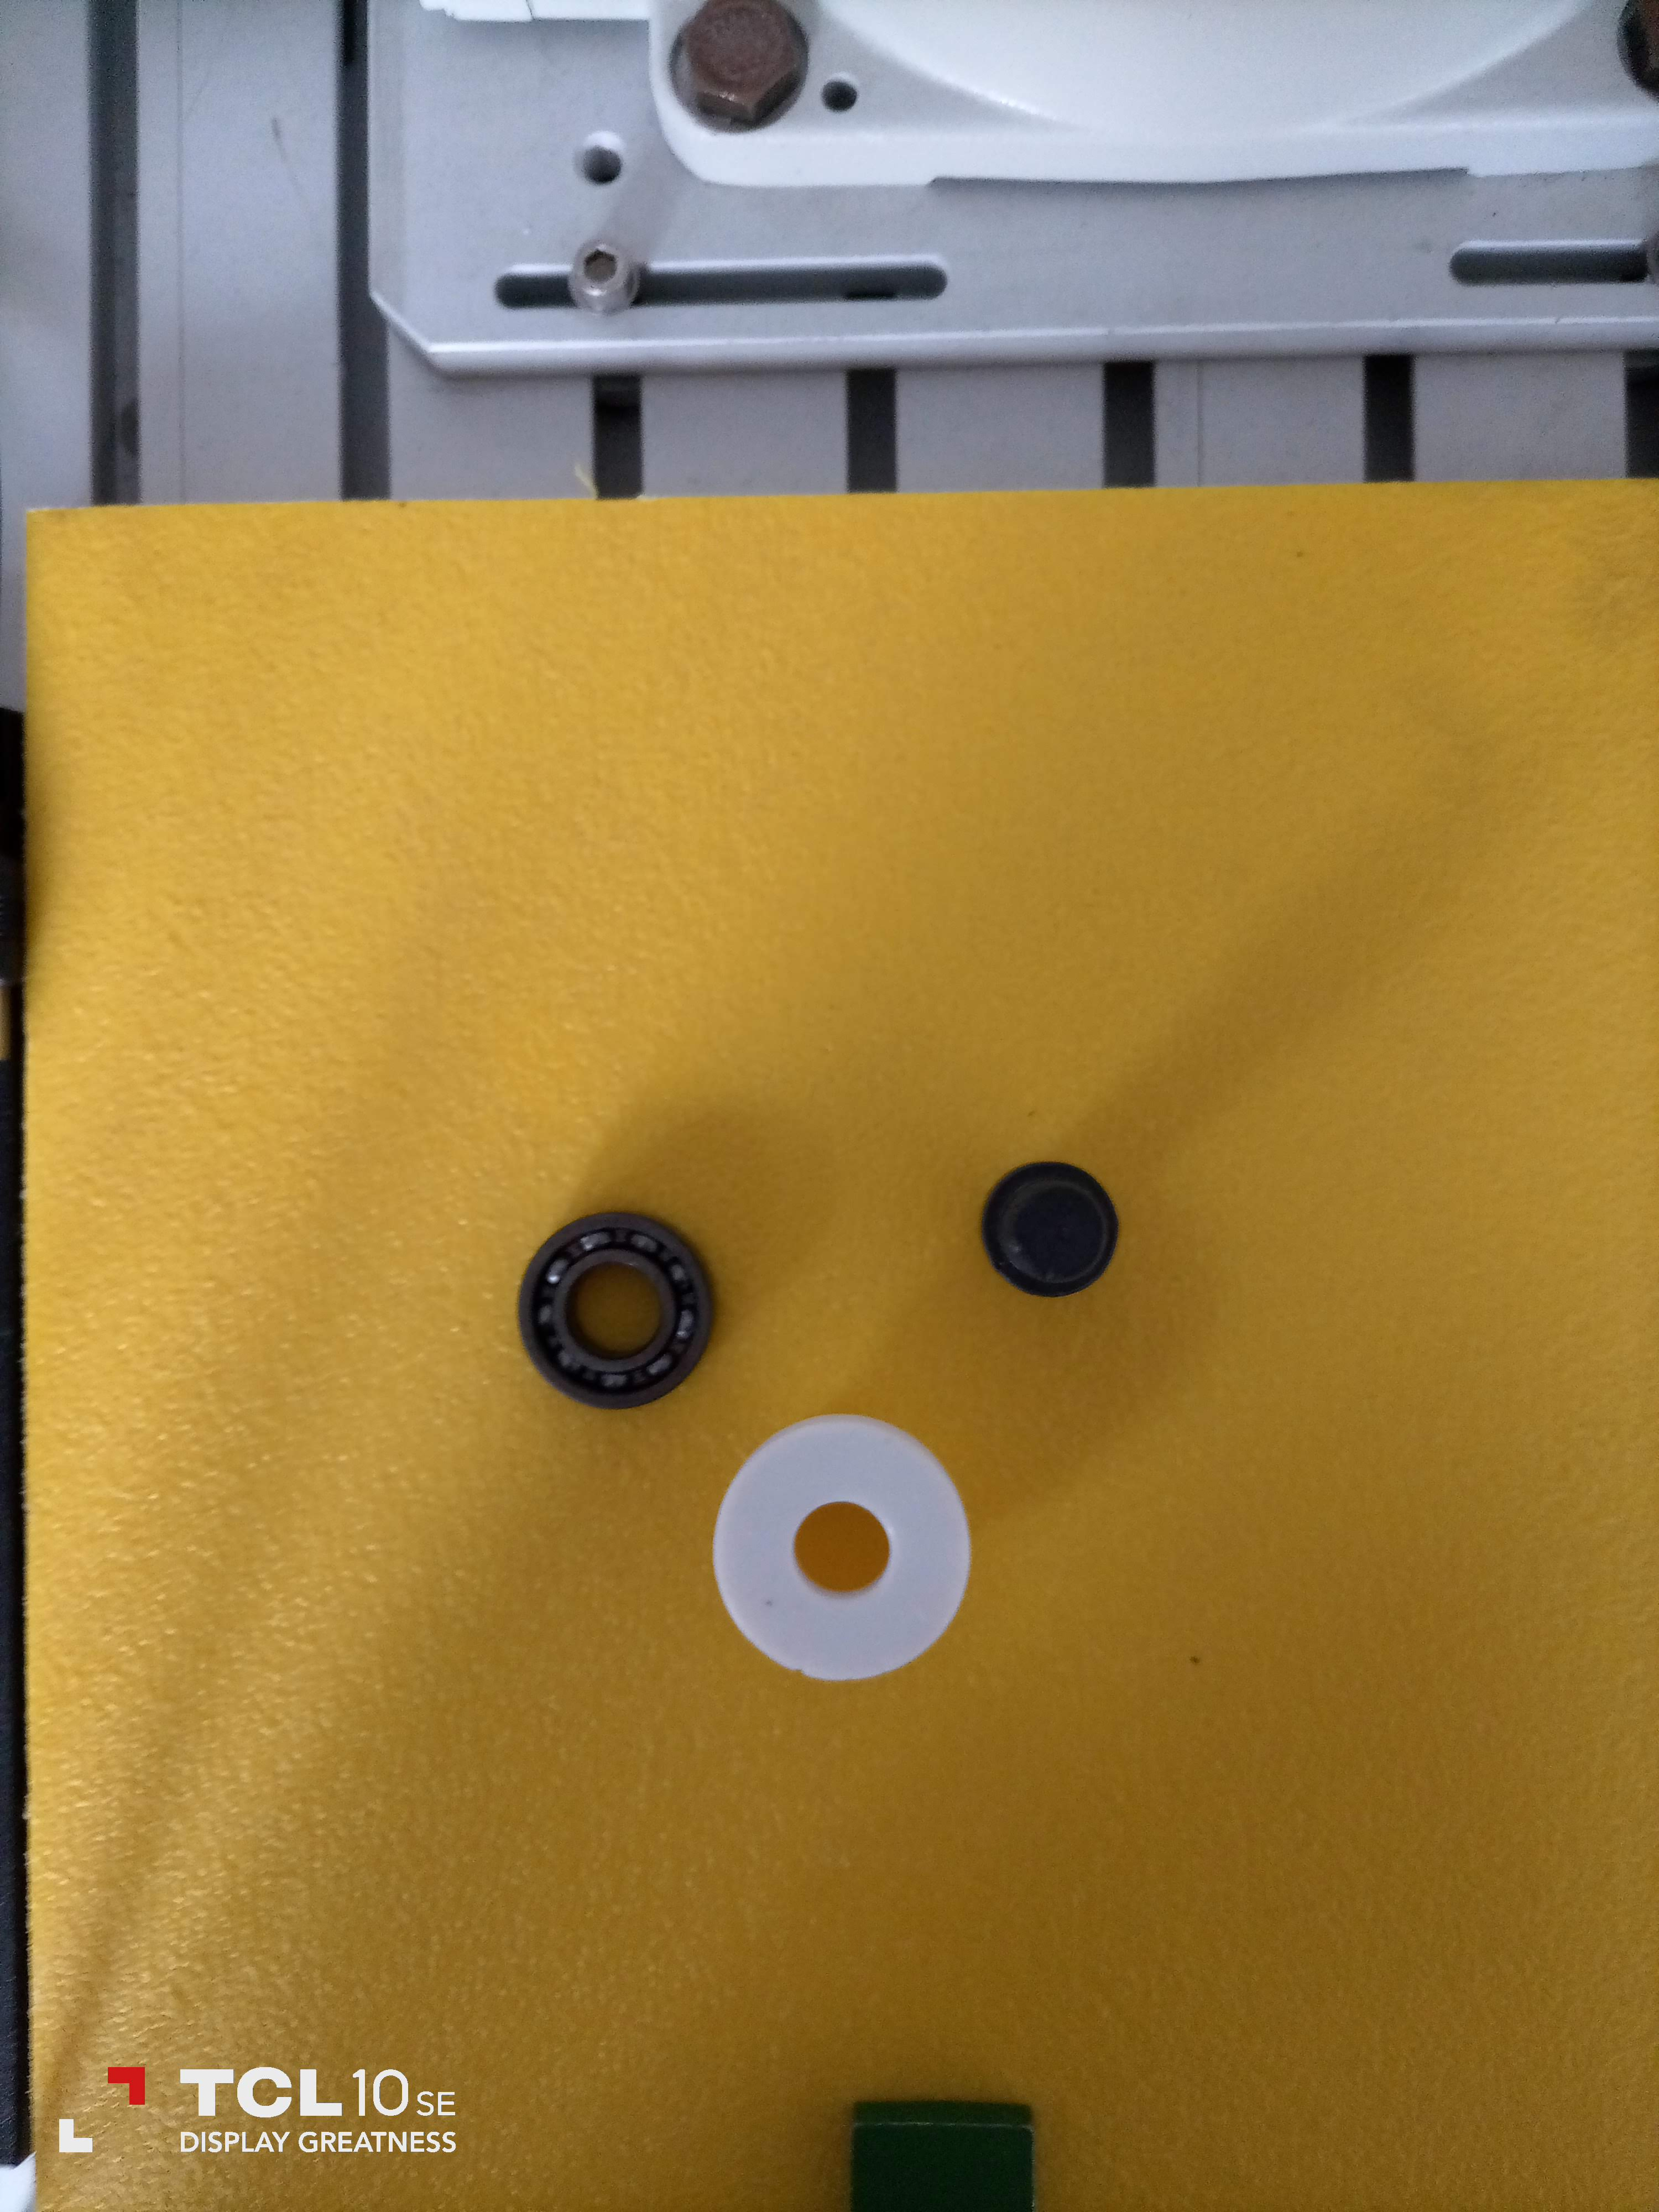Ardatza: (974, 1153, 1134, 1298)
Roda: (516, 1209, 720, 1400)
Tapa: (701, 1423, 965, 1677)
